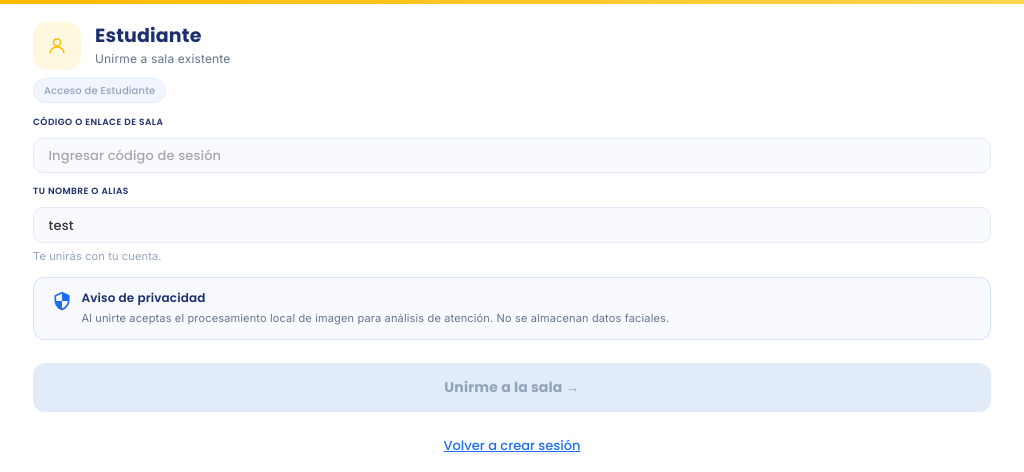
Test: the RoomNameScreen component › switches from student to teacher view when the switch link is clicked
# Click the switch link
Click the button with test id "switch-to-teacher" at [512, 445], box [444, 436, 580, 455]
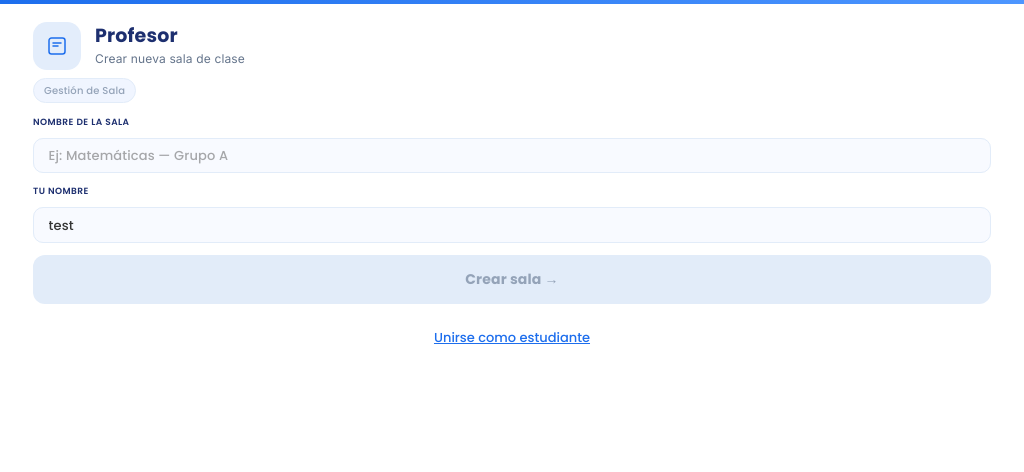
expect the text "Gestión de Sala" is shown: met, box [33, 78, 136, 102]
expect the text "Acceso de Estudiante" is gone: met
